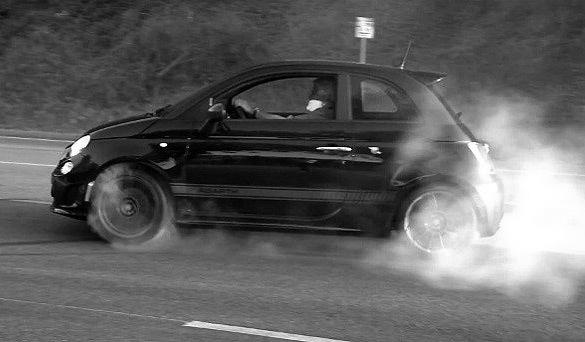car: (51, 44, 506, 263)
